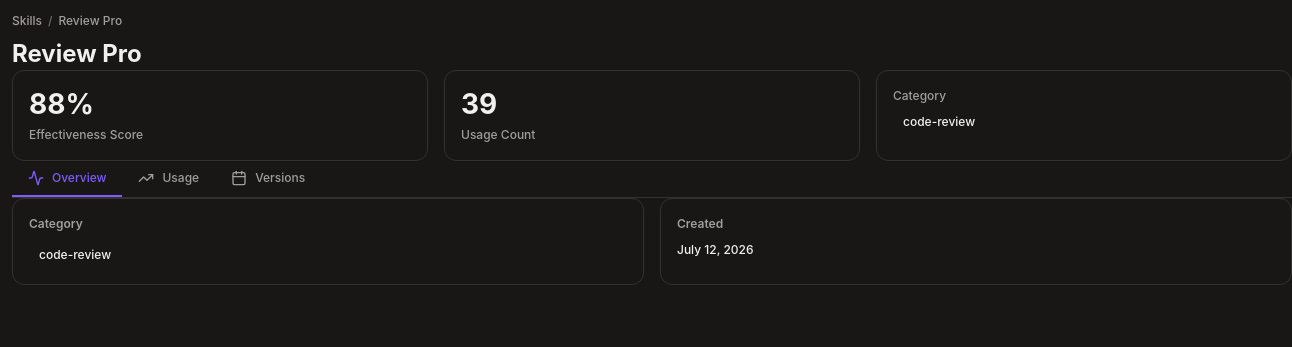
it: SkillDetailPage › switches to Versions tab and shows session data
// Click the Versions tab
Click the tab "Versions". click: click(268, 179)
box: x1=215 y1=161 x2=321 y2=197
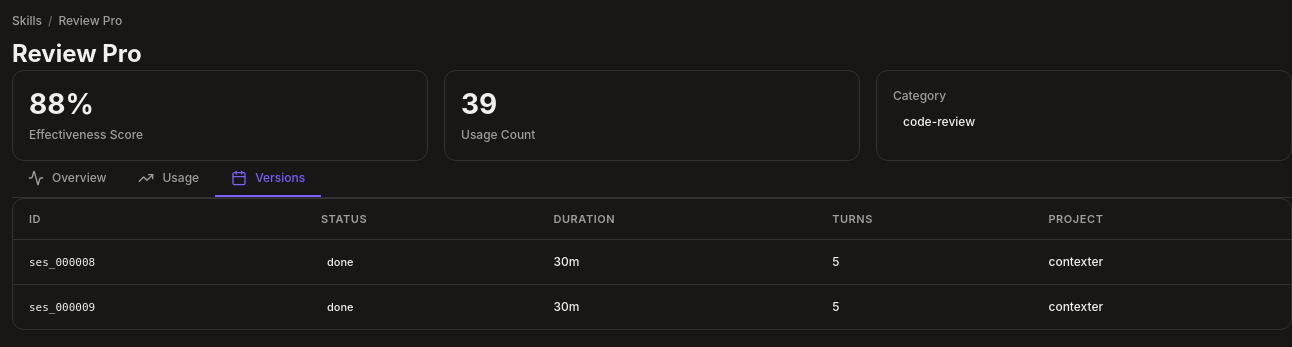
expect the table is shown: met, box x1=13 y1=199 x2=1291 y2=329
